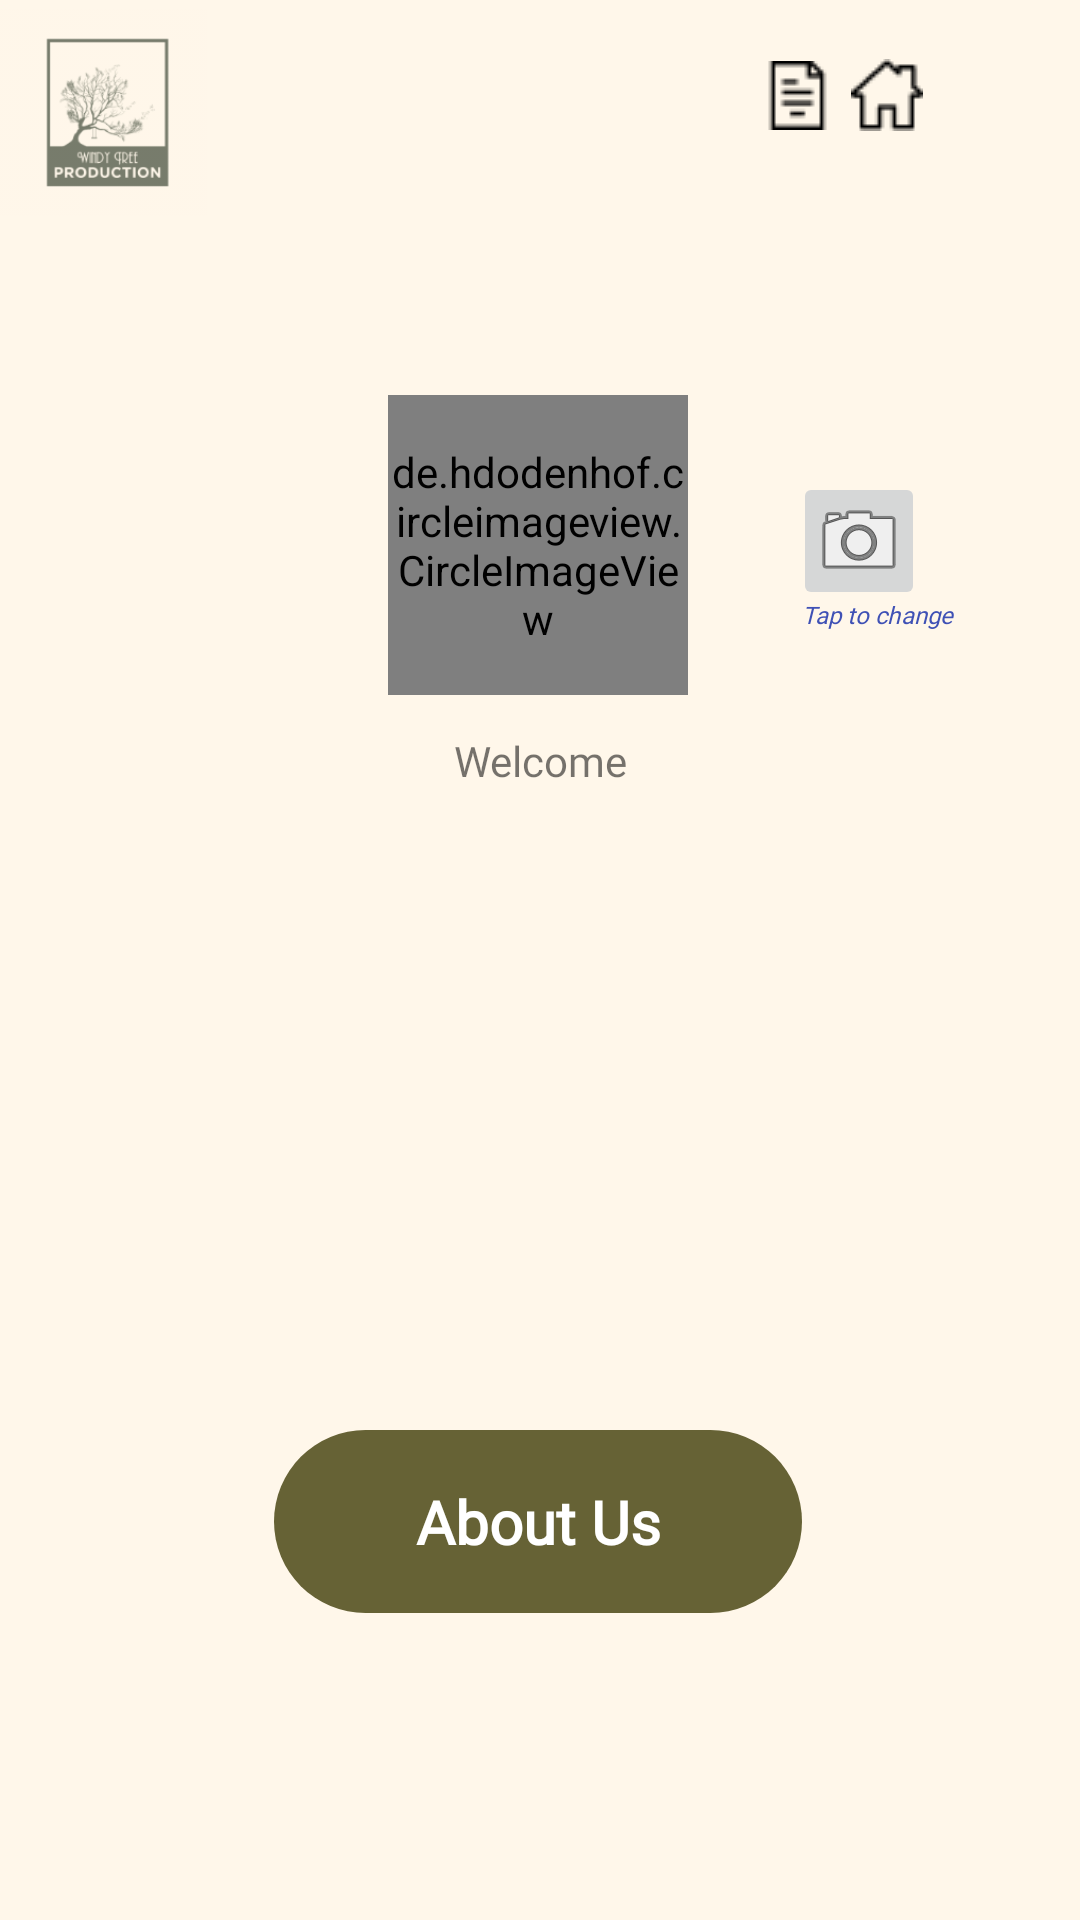

Screen size 1080x1920. Icon name, then its center in pixels as point (x, y):
camera: point (859, 541)
